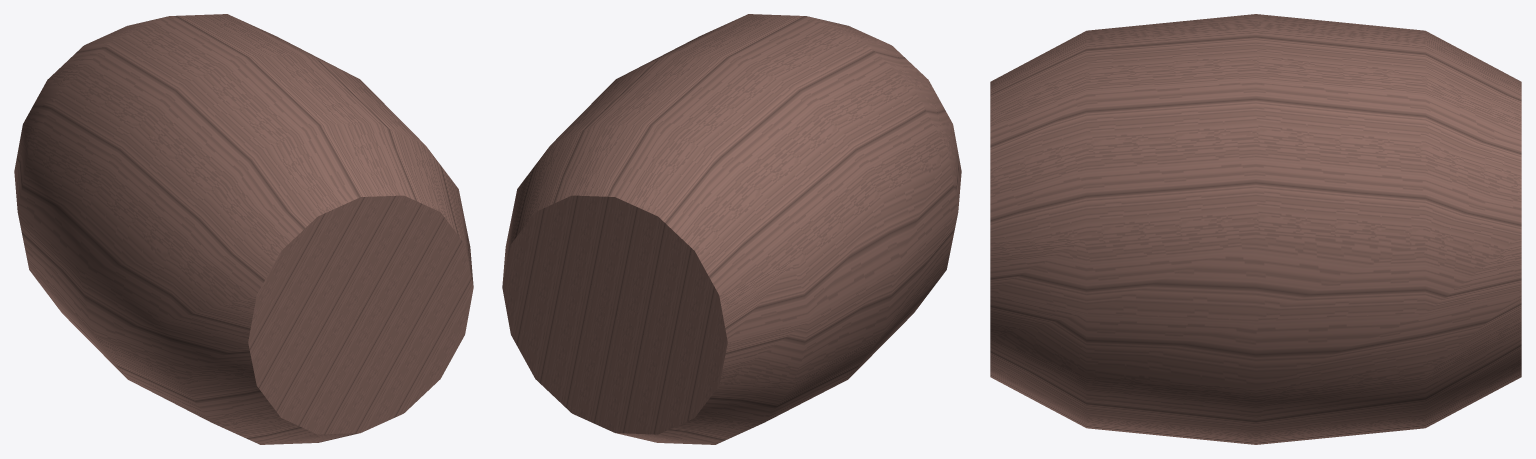
Rendered from toybarrel.obj.
3 views of the same model, side by side, from view 1: azimuth 30°, elevation 25°; view 2: azimuth 150°, elevation 25°; view 3: azimuth 270°, elevation 25° (orthographic). The views are drawn at different scales.
Parts seen in each view (by area): view 1: Cylinder; view 2: Cylinder; view 3: Cylinder.
Part boxes in pixels (x1,y1,x2,y2): Cylinder: (14,14,473,444); Cylinder: (502,14,961,444); Cylinder: (990,14,1521,444).
Bounding box in the file's own units: 0.0812 × 0.0812 × 0.1.
Materials: 1 (1 with a texture image).
